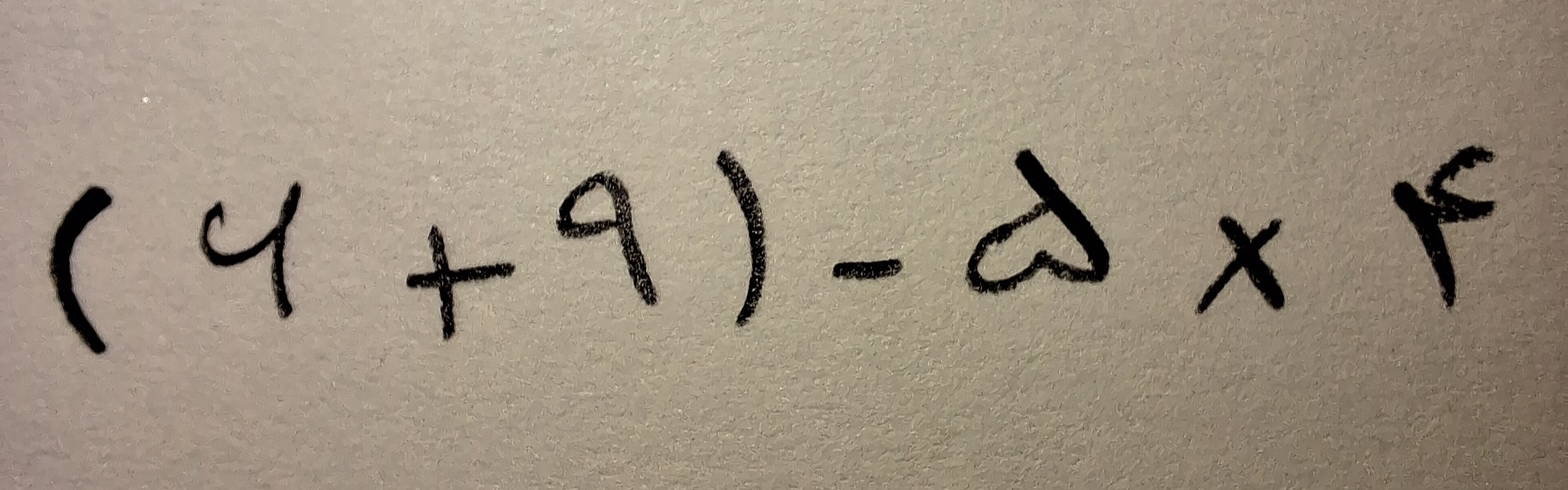character: (964, 149, 1111, 293), (1392, 145, 1494, 313), (202, 180, 302, 318), (557, 171, 659, 306), (408, 226, 512, 339), (50, 185, 112, 354), (715, 149, 768, 323), (1198, 216, 1287, 311), (833, 261, 903, 282)
